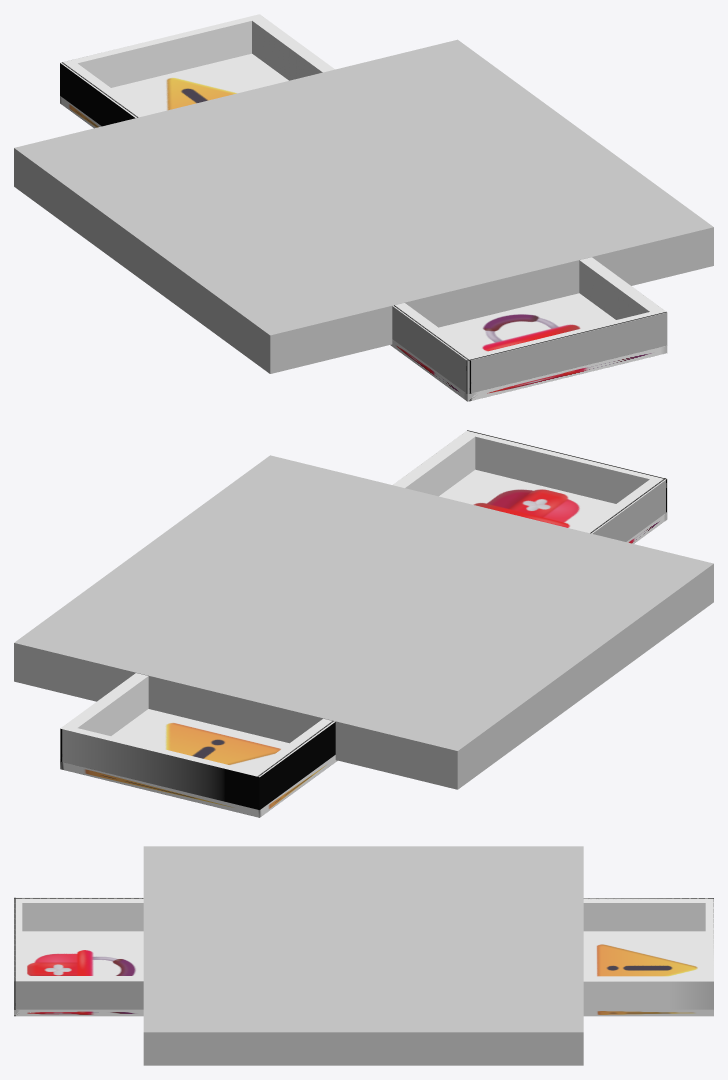
Rendered from ocatgon_table.glb.
3 renders of one model, top to bottom at view 1: azimuth 30°, elevation 25°; view 2: azimuth 150°, elevation 25°; view 3: azimuth 270°, elevation 25°, orthographic. The views are drawn at different scales.
Visible parts, largest first — view 1: Cube, Cube.002, Cube.001; view 2: Cube, Cube.001, Cube.002; view 3: Cube, Cube.002, Cube.001.
Boxes of the visible parts, left/top/right/bottom form: Cube: left=14, top=39, right=713, bottom=373; Cube.002: left=390, top=257, right=667, bottom=401; Cube.001: left=60, top=14, right=334, bottom=128; Cube: left=14, top=455, right=713, bottom=789; Cube.001: left=60, top=673, right=337, bottom=817; Cube.002: left=393, top=430, right=667, bottom=543; Cube: left=143, top=846, right=583, bottom=1065; Cube.002: left=14, top=897, right=143, bottom=1016; Cube.001: left=583, top=898, right=713, bottom=1016.
Size of the model in its own units: 1.2 by 0.1057 by 1.91.
3 materials, 2 textured.
